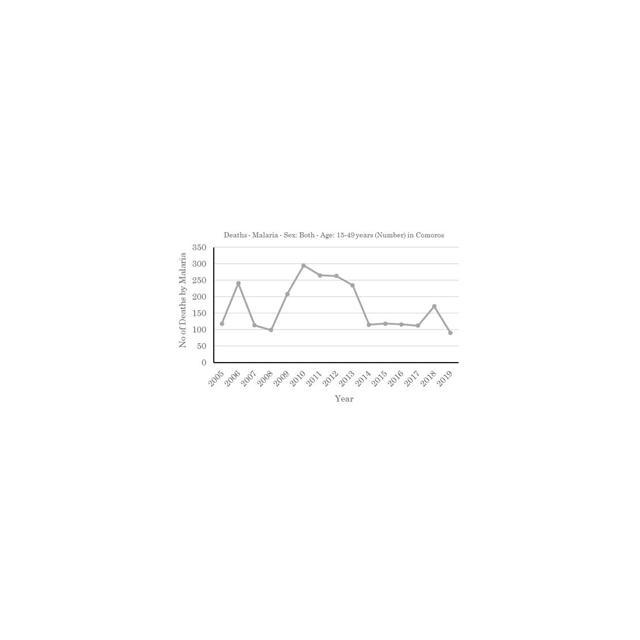Graph: (176, 226, 463, 409)
